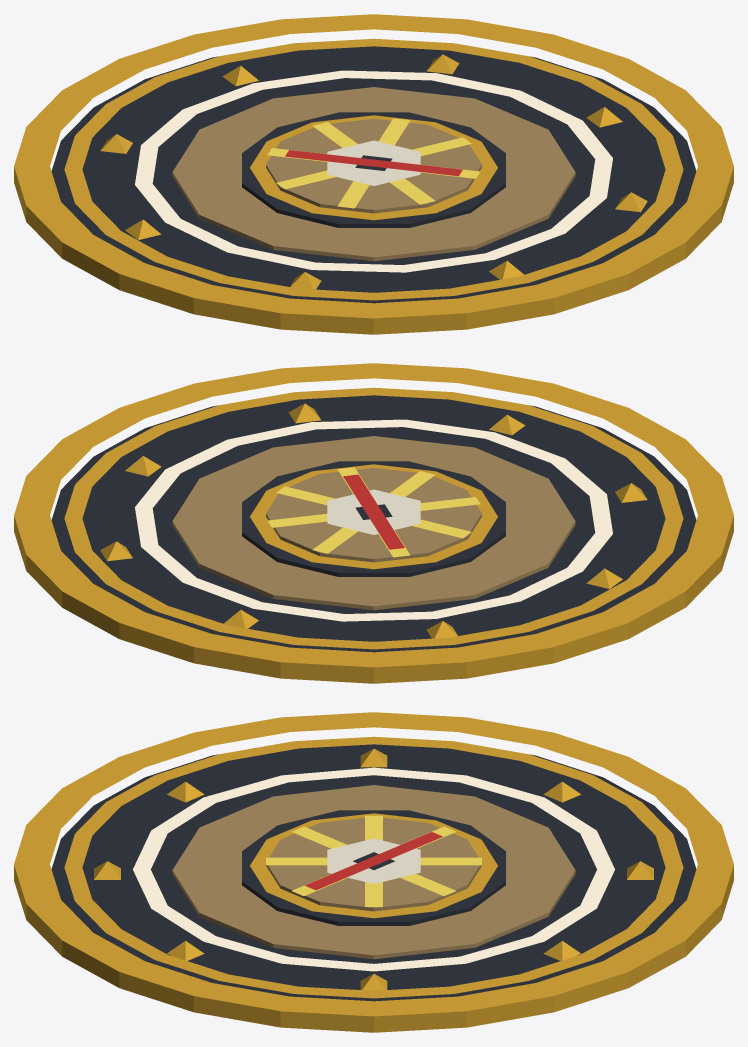
File: blinder_legend_area.glb
3 renders of one model, top to bottom at view 1: azimuth 30°, elevation 25°; view 2: azimuth 150°, elevation 25°; view 3: azimuth 270°, elevation 25°, orthographic.
Parts seen in each view (by area): view 1: blinder_legend_area; view 2: blinder_legend_area; view 3: blinder_legend_area.
Boxes of the visible parts, x1=… form: blinder_legend_area: x1=14, y1=14, x2=733, y2=334; blinder_legend_area: x1=14, y1=363, x2=733, y2=683; blinder_legend_area: x1=14, y1=712, x2=733, y2=1032.
Size of the model in its own units: 2 by 0.06 by 2.
2 materials, 2 textured.
